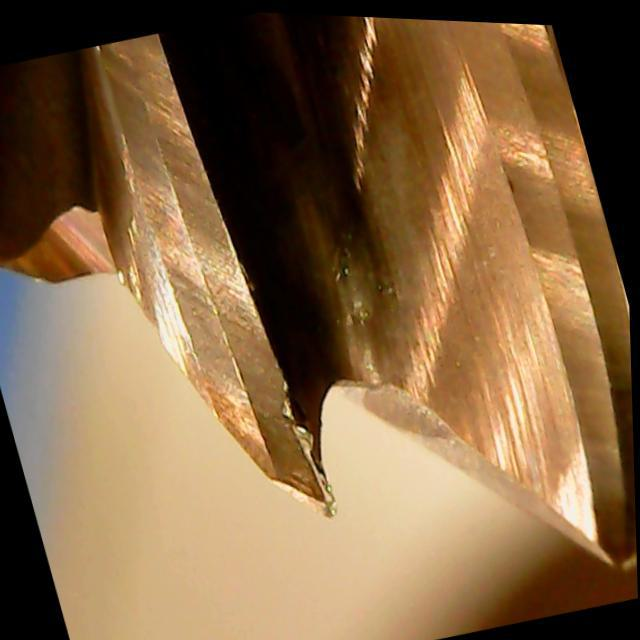Tool-wear-class-1: (139, 193, 355, 548)
